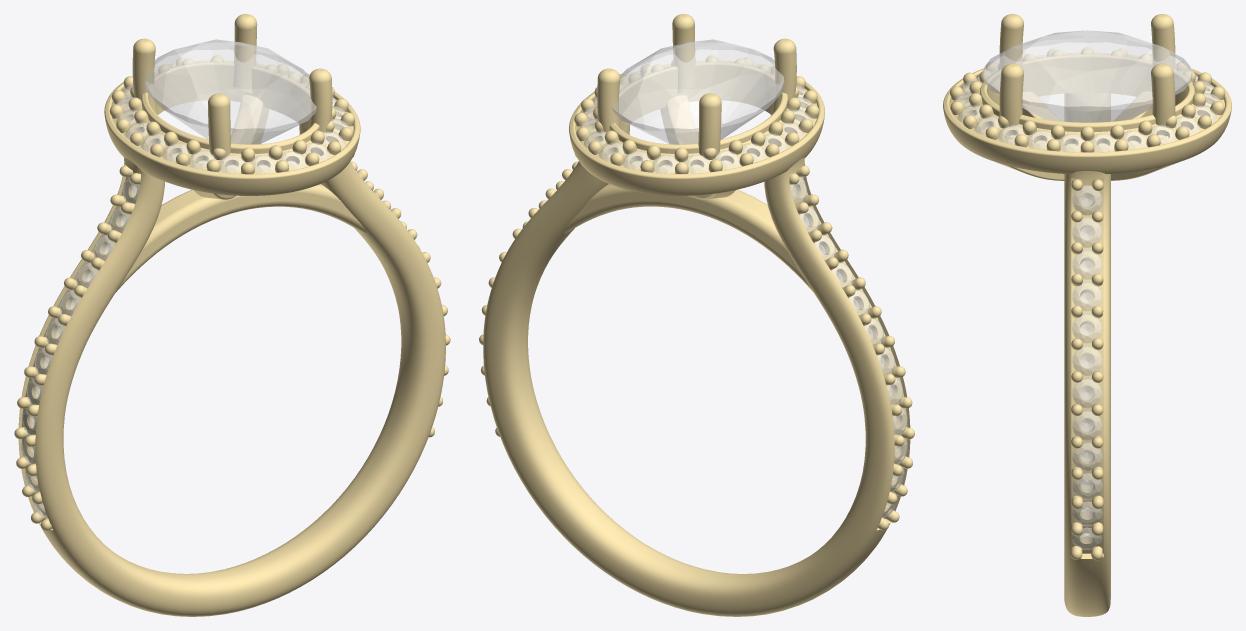
3 renders of one model, left to right at view 1: azimuth 30°, elevation 25°; view 2: azimuth 150°, elevation 25°; view 3: azimuth 270°, elevation 25°, orthographic.
Visible parts, largest first — view 1: NNObj_53, NNObj_48, NNObj_0, NNObj_47, NNObj_57, NNObj_56, NNObj_52, NNObj_54, NNObj_55; view 2: NNObj_53, NNObj_48, NNObj_0, NNObj_47, NNObj_54, NNObj_49, NNObj_55, NNObj_56, NNObj_57; view 3: NNObj_53, NNObj_48, NNObj_0, NNObj_54, NNObj_57, NNObj_55, NNObj_56, NNObj_41, NNObj_40, NNObj_42, NNObj_45, NNObj_46 (+9 smaller).
Part boxes in pixels (x1,y1,x2,y2): NNObj_53: [18, 124, 445, 616]; NNObj_48: [104, 60, 360, 195]; NNObj_0: [145, 39, 316, 144]; NNObj_47: [116, 184, 366, 291]; NNObj_57: [233, 14, 257, 93]; NNObj_56: [132, 38, 156, 112]; NNObj_52: [231, 95, 268, 143]; NNObj_54: [309, 68, 332, 132]; NNObj_55: [208, 93, 230, 156]; NNObj_53: [483, 124, 910, 616]; NNObj_48: [569, 60, 824, 195]; NNObj_0: [612, 39, 784, 144]; NNObj_47: [564, 184, 812, 291]; NNObj_54: [672, 14, 696, 93]; NNObj_49: [660, 95, 698, 144]; NNObj_55: [772, 38, 796, 112]; NNObj_56: [698, 93, 721, 156]; NNObj_57: [597, 68, 620, 132]; NNObj_53: [1064, 93, 1110, 616]; NNObj_48: [943, 53, 1231, 174]; NNObj_0: [982, 30, 1192, 122]; NNObj_54: [999, 63, 1023, 127]; NNObj_57: [1151, 63, 1175, 127]; NNObj_55: [999, 14, 1023, 89]; NNObj_56: [1151, 14, 1175, 89]; NNObj_41: [1072, 345, 1102, 375]; NNObj_40: [1072, 378, 1102, 408]; NNObj_42: [1072, 313, 1102, 343]; NNObj_45: [1072, 217, 1102, 247]; NNObj_46: [1072, 185, 1102, 215].
Bounding box in the file's own units: 0.0211 × 0.0263 × 0.0124.
